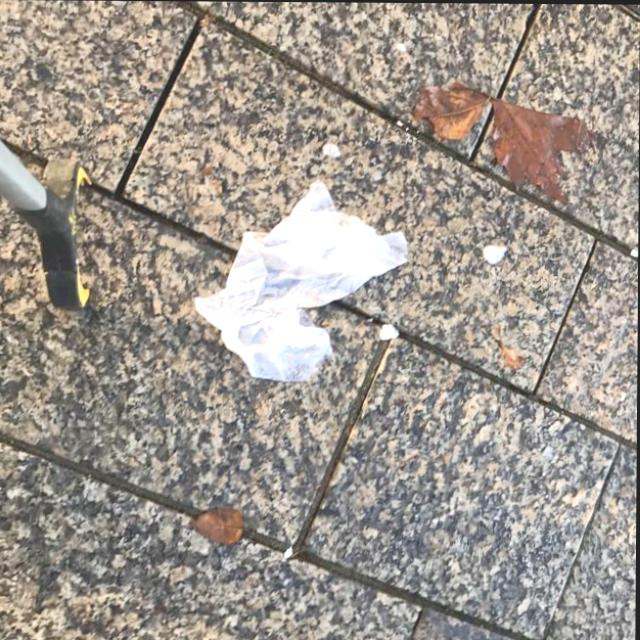Paper: (192, 175, 411, 386)
